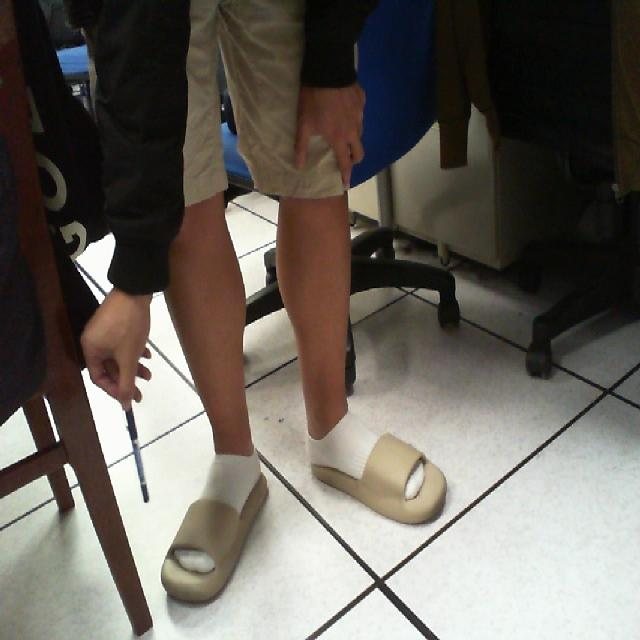Pen: (105, 360, 164, 536)
